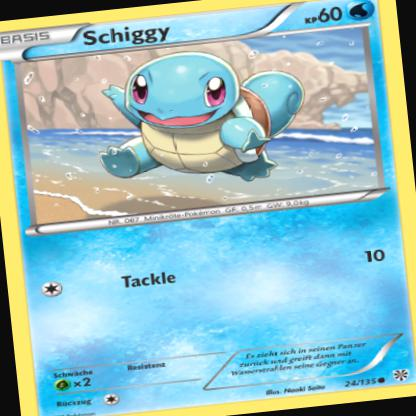Squirtle: (83, 34, 321, 201)
